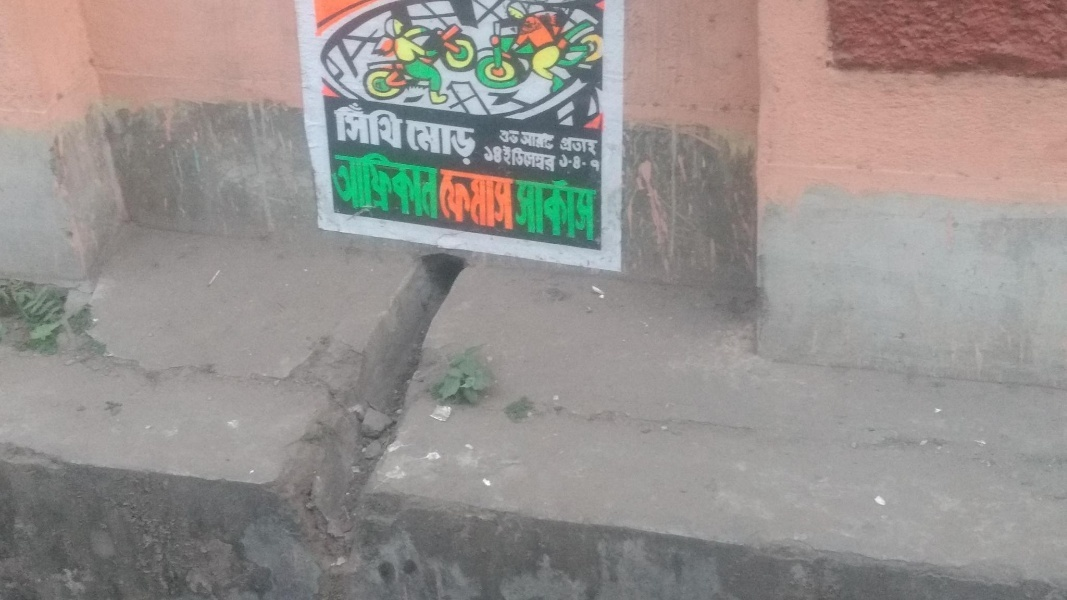text: (337, 148, 352, 228), (353, 148, 368, 228), (369, 148, 384, 228), (385, 148, 400, 228), (401, 148, 416, 228), (417, 148, 432, 228), (529, 175, 544, 242), (545, 175, 560, 242), (561, 175, 576, 242), (577, 175, 592, 242), (449, 168, 464, 231), (465, 168, 480, 231), (481, 168, 496, 231), (497, 168, 512, 231), (514, 175, 528, 242), (433, 148, 444, 228), (465, 116, 481, 167), (417, 116, 432, 167), (433, 116, 448, 167), (449, 116, 464, 167), (337, 102, 352, 151), (353, 102, 368, 151), (369, 102, 384, 151), (385, 102, 400, 151), (406, 116, 416, 167), (330, 148, 336, 228), (593, 175, 600, 242), (441, 168, 448, 231), (577, 131, 592, 160), (529, 124, 544, 152), (545, 124, 560, 152), (529, 146, 544, 172), (563, 131, 576, 160), (514, 146, 528, 172), (561, 151, 576, 174), (577, 151, 592, 174), (497, 145, 512, 167), (593, 131, 604, 160), (545, 146, 557, 172), (498, 124, 512, 146), (483, 145, 496, 167), (513, 124, 526, 146), (593, 151, 604, 174), (513, 168, 517, 231), (522, 124, 528, 152), (401, 102, 404, 151), (513, 145, 518, 167), (334, 102, 336, 151), (557, 151, 560, 174), (561, 124, 562, 152)
